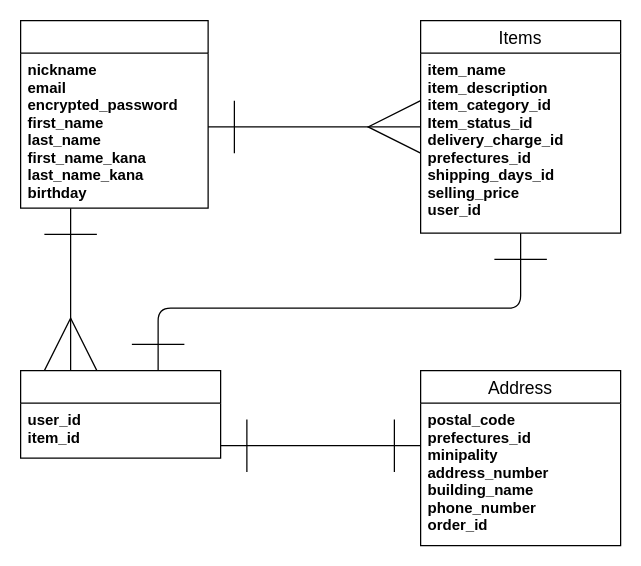
Image size: 641x566. Some labels were removed from this diagram. Here are the shapes that lost their labels. From the top down, the box of each, then its label:
(19, 19, 208, 208): Users
(19, 369, 221, 458): Order
